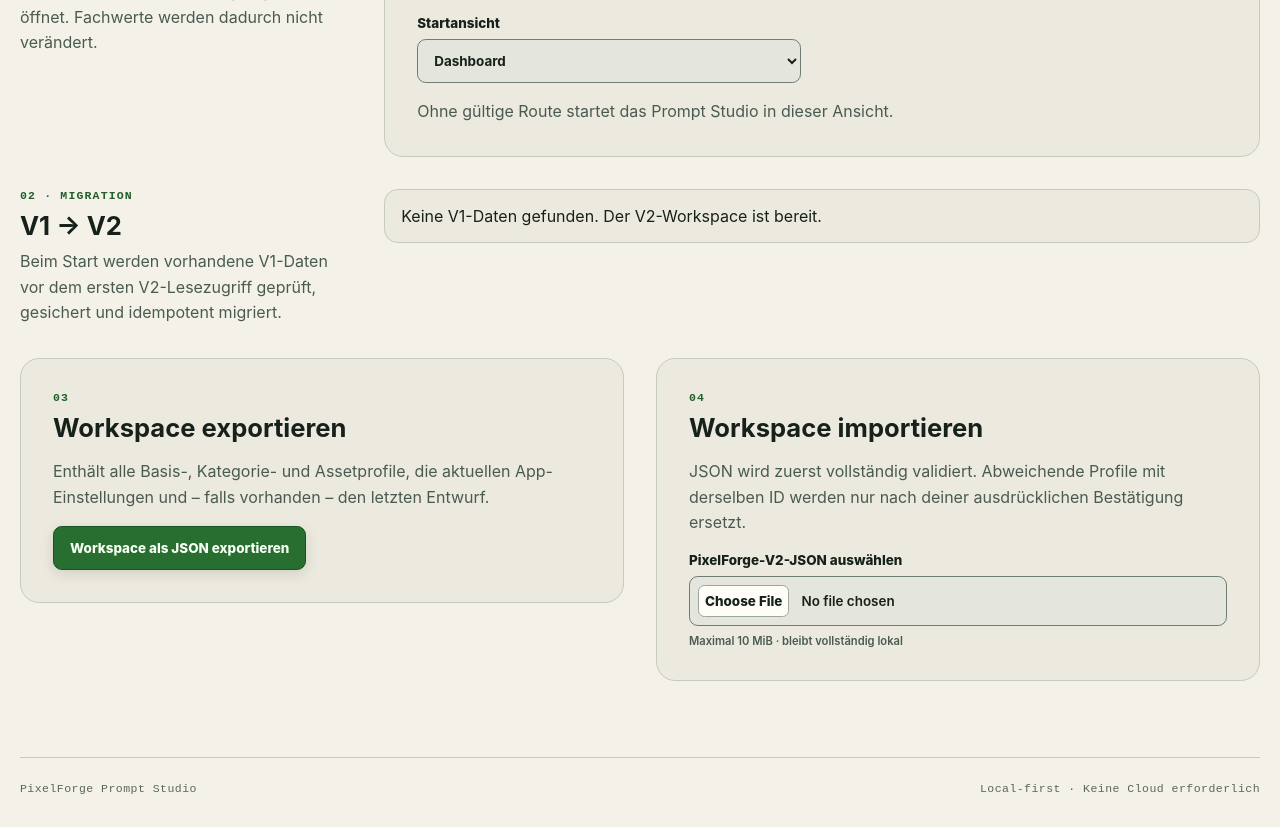
Test: settings workspace transfer › fails closed when a corrupt local draft would make a backup incomplete
(page scrolled)
Click the button "Workspace als JSON exportieren" at (180, 548), box [53,526,306,570]
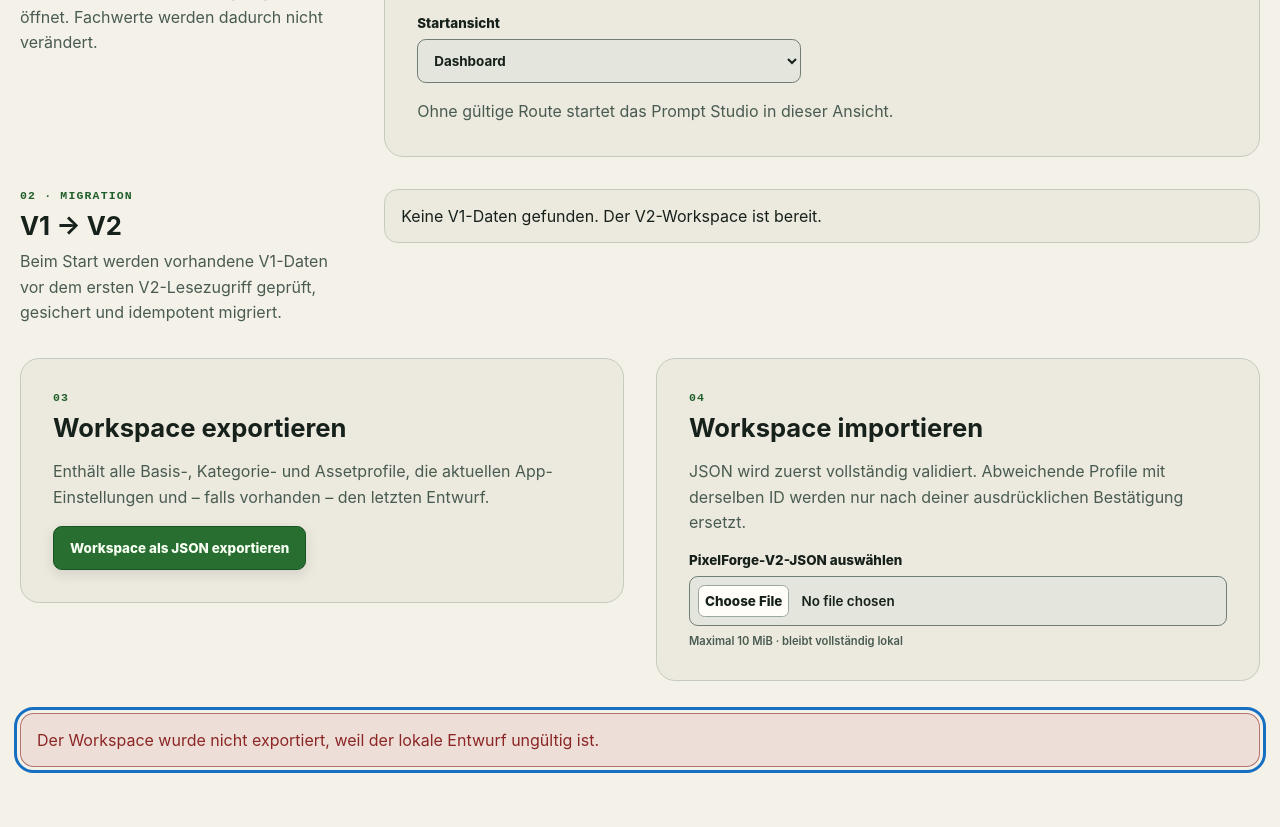
Expected: the message "Der Workspace wurde nicht exportiert, weil der lokale Entwurf ungültig ist." is shown, [20,713,1260,767]
